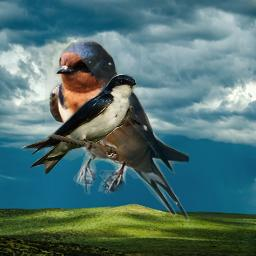Swallow: (45, 39, 189, 222), (21, 74, 137, 175)
